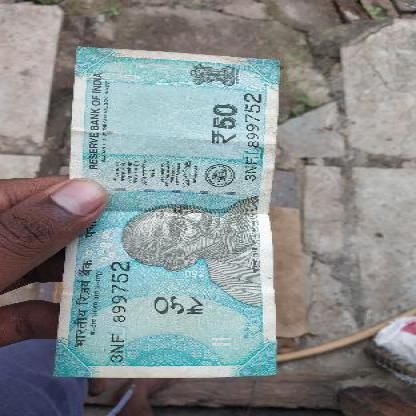New50Front: (57, 59, 274, 377)
